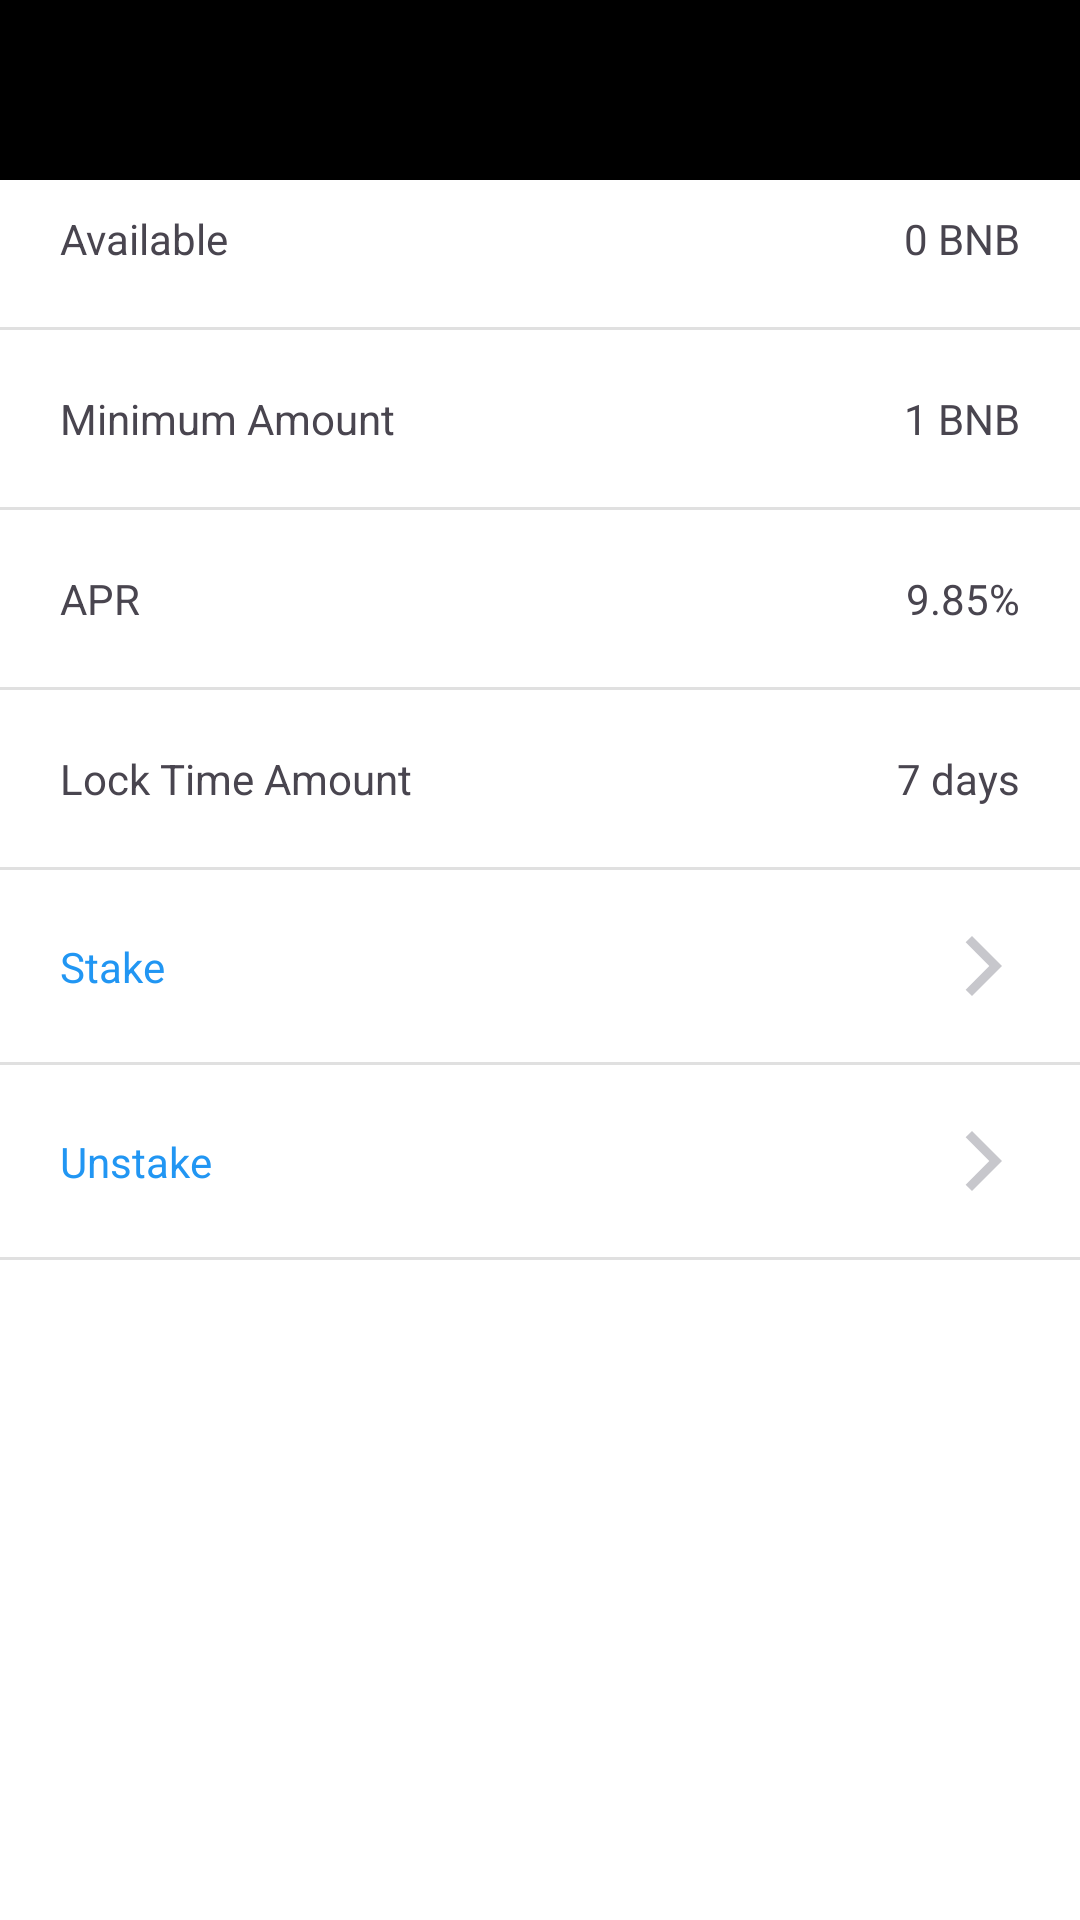

Icon bounding boxes for this 1080w x 1920h phone screenshot, format bbox=(x1, y1, x2, y2):
right: bbox=(966, 936, 1002, 996), bbox=(966, 1131, 1002, 1191)
